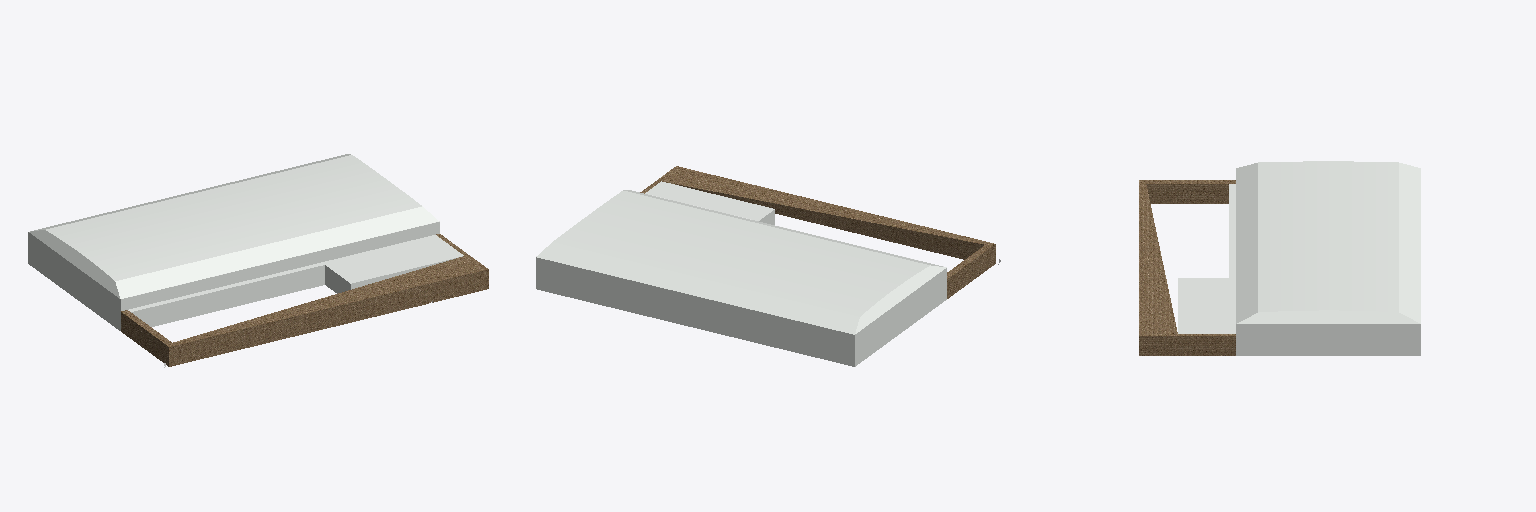
The picture shows the model from 3 angles: view 1: azimuth 30°, elevation 25°; view 2: azimuth 150°, elevation 25°; view 3: azimuth 270°, elevation 25°; orthographic projection.
Parts seen in each view (by area): view 1: Mesh1 Component_1_1 Model, Mesh2 Model; view 2: Mesh1 Component_1_1 Model, Mesh2 Model; view 3: Mesh1 Component_1_1 Model, Mesh2 Model.
Boxes of the visible parts, x1,y1,x2,y2 form: Mesh1 Component_1_1 Model: [29, 154, 438, 298]; Mesh2 Model: [28, 221, 488, 366]; Mesh1 Component_1_1 Model: [537, 190, 946, 334]; Mesh2 Model: [536, 166, 995, 366]; Mesh1 Component_1_1 Model: [1236, 161, 1420, 323]; Mesh2 Model: [1139, 180, 1420, 355].
Bounding box in the file's own units: 84.53 × 10.53 × 63.61.
Materials: 5 (3 with a texture image).